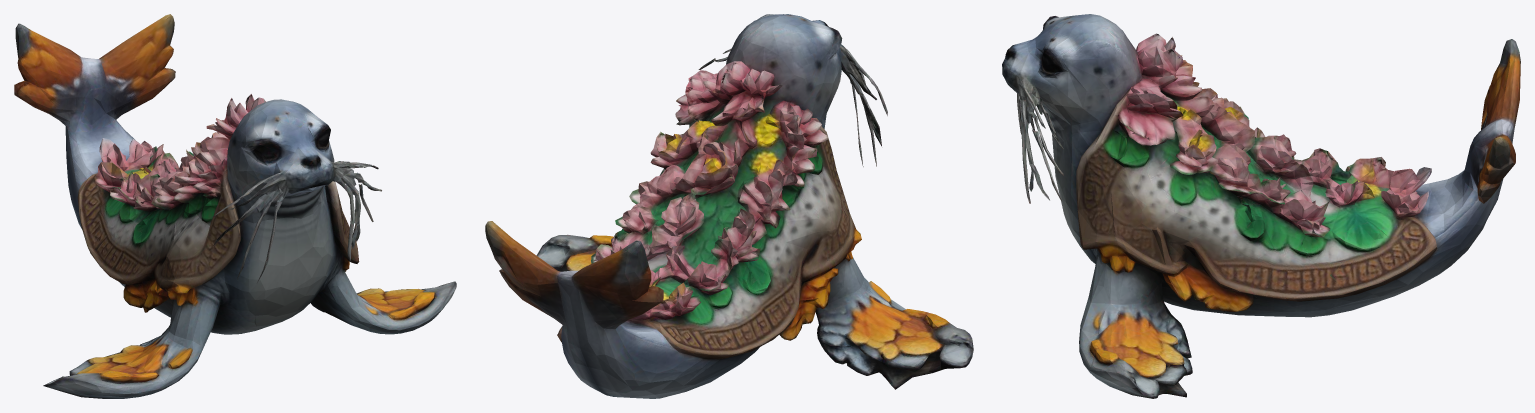
File: selkira.glb
3 renders of one model, left to right at view 1: azimuth 30°, elevation 25°; view 2: azimuth 150°, elevation 25°; view 3: azimuth 270°, elevation 25°, orthographic. The views are drawn at different scales.
Parts seen in each view (by area): view 1: world; view 2: world; view 3: world.
Part boxes in pixels (box(x1,y1,x2,y2)): world: box(14, 14, 456, 398); world: box(485, 14, 973, 398); world: box(1002, 14, 1520, 398).
Bounding box in the file's own units: 0.9692 × 0.6305 × 0.9948.
Materials: 1 (1 with a texture image).
